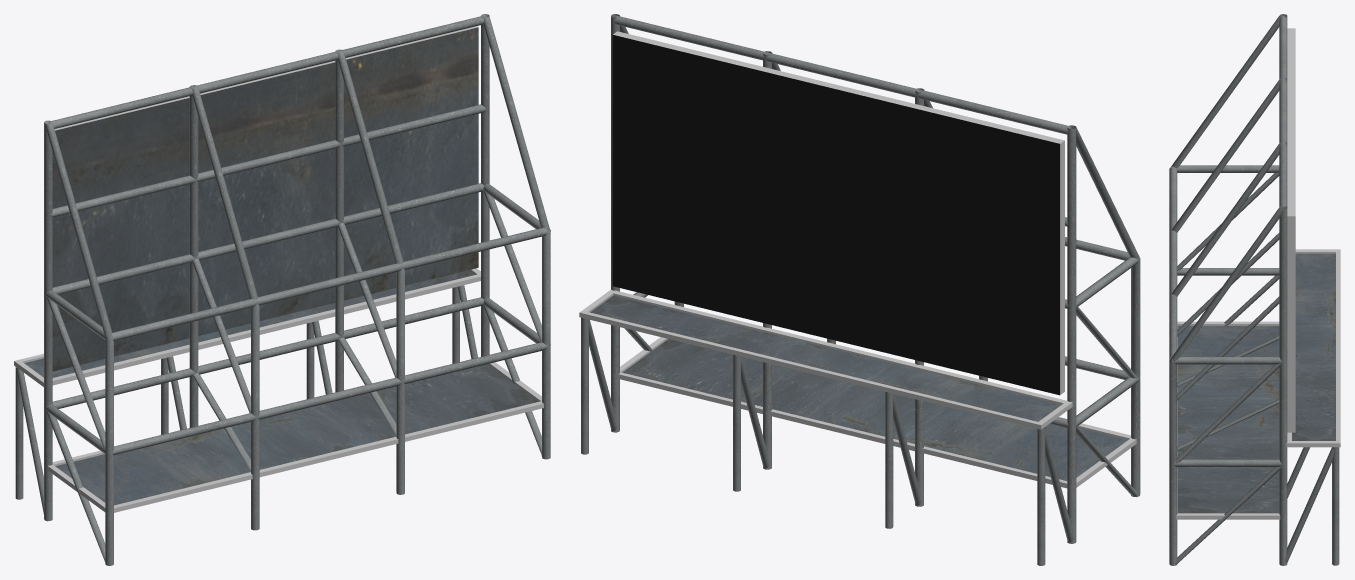
File: Big-Screen-06.fbx
3 renders of one model, left to right at view 1: azimuth 30°, elevation 25°; view 2: azimuth 150°, elevation 25°; view 3: azimuth 270°, elevation 25°, orthographic. The views are drawn at different scales.
Parts seen in each view (by area): view 1: Metal_Extructure; view 2: Screen, Metal_Extructure; view 3: Metal_Extructure.
Boxes of the visible parts, left/top/right/bottom form: Metal_Extructure: left=14, top=14, right=550, bottom=565; Screen: left=612, top=35, right=1059, bottom=395; Metal_Extructure: left=579, top=14, right=1140, bottom=565; Metal_Extructure: left=1169, top=14, right=1340, bottom=565.
Size of the model in its own units: 1221 by 1043 by 453.
